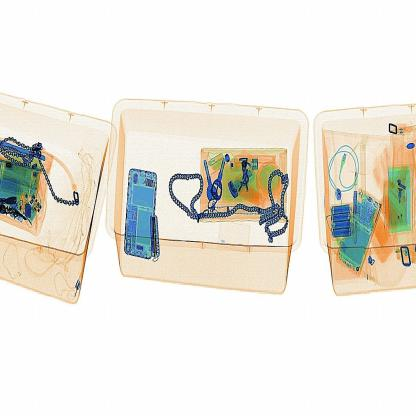scissors: (148, 203, 168, 268)
